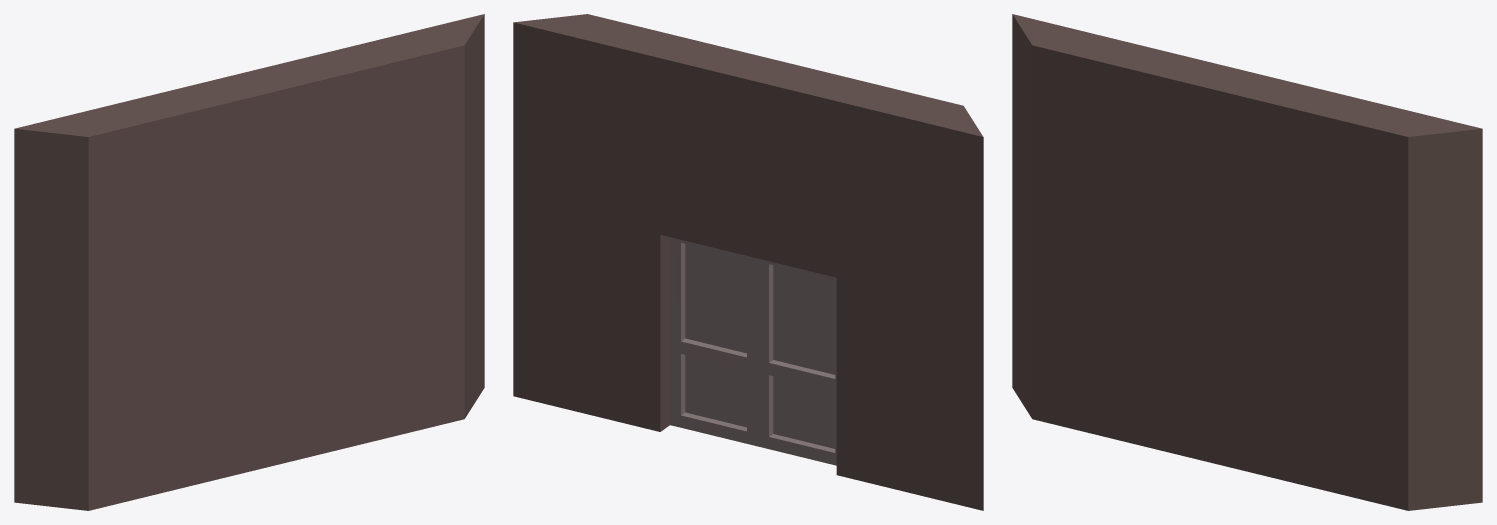
Rendered from buildingFloor_door1.fbx.
3 views of the same model, side by side, from view 1: azimuth 30°, elevation 25°; view 2: azimuth 150°, elevation 25°; view 3: azimuth 330°, elevation 25° (orthographic).
Visible parts, largest first — view 1: building_Floor_door; view 2: building_Floor_door; view 3: building_Floor_door.
Boxes of the visible parts, x1,y1,x2,y2 form: building_Floor_door: (14, 14, 484, 510); building_Floor_door: (513, 14, 983, 510); building_Floor_door: (1012, 14, 1482, 510).
Bounding box in the file's own units: 500 × 380 × 50.
